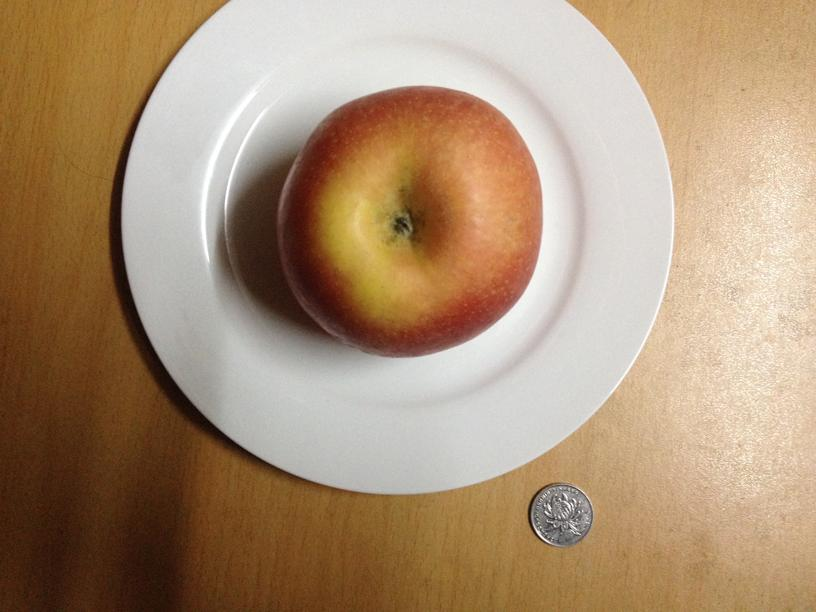apple: (281, 83, 543, 357)
coin: (529, 480, 593, 546)
